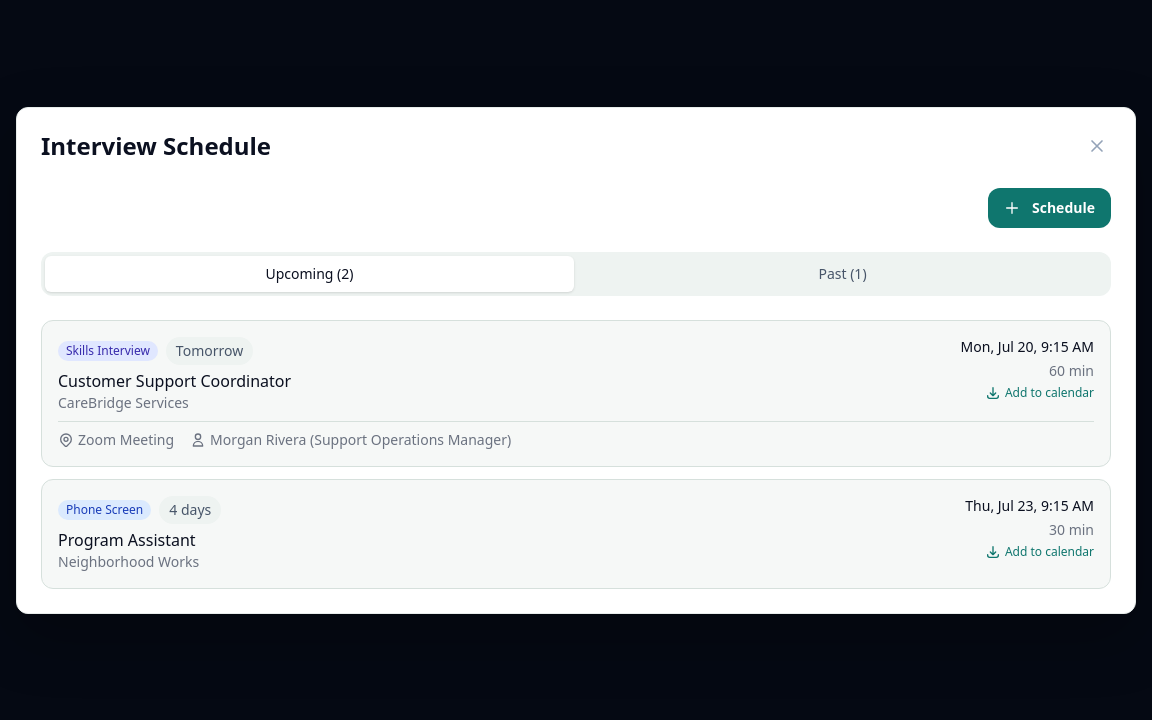
Test: InterviewScheduler › interview detail modal › opens detail modal when interview is clicked
This screenshot has width=1152, height=720.
Note: Click on the interview card
Click the heading "Customer Support Coordinator": (175, 380) left=58, top=370, right=291, bottom=392
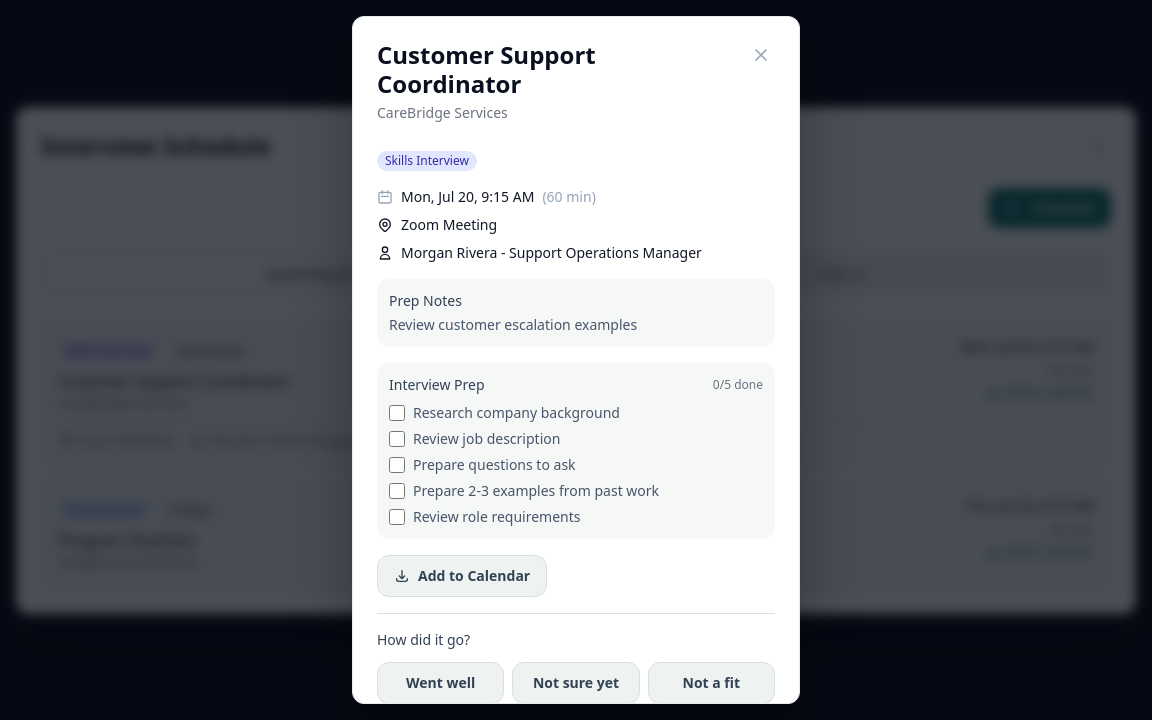
Check: the text "Interview Prep" is shown, box left=389, top=375, right=485, bottom=395
